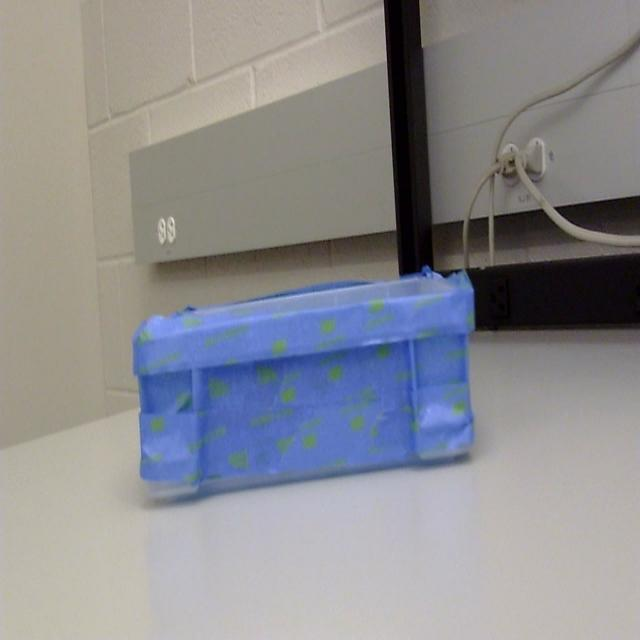bucket: (132, 271, 476, 507)
